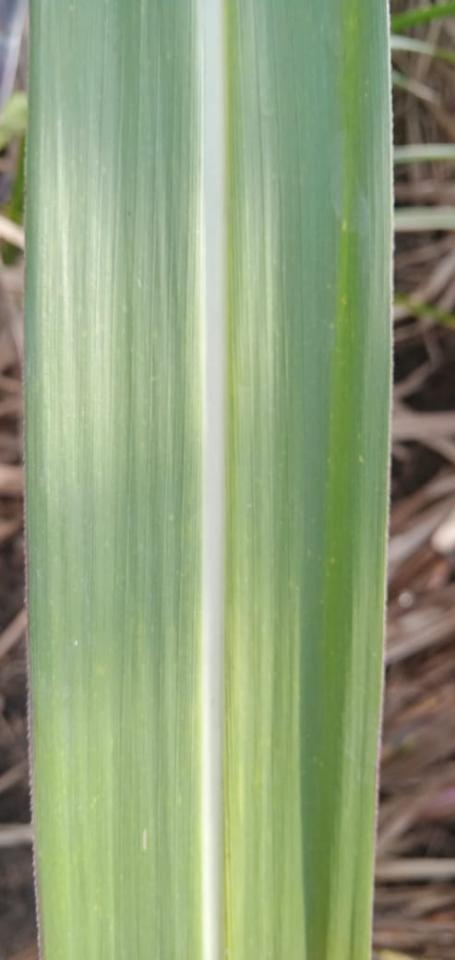Healthy: (25, 0, 392, 959)
